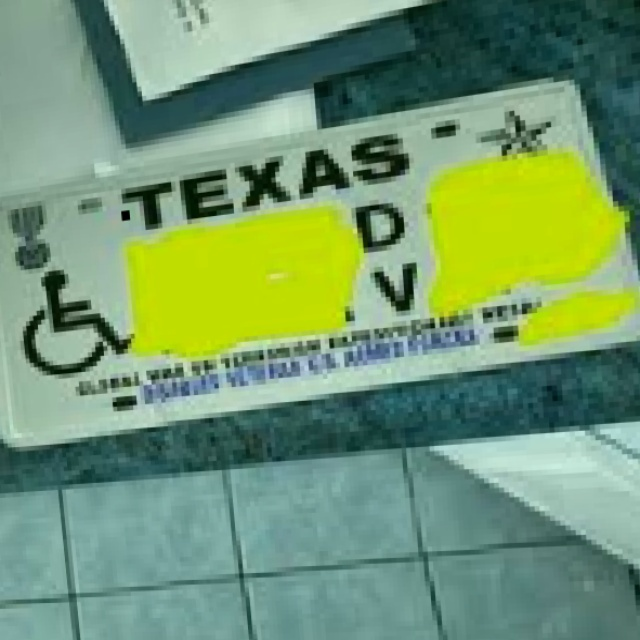ISA: (11, 256, 133, 379)
